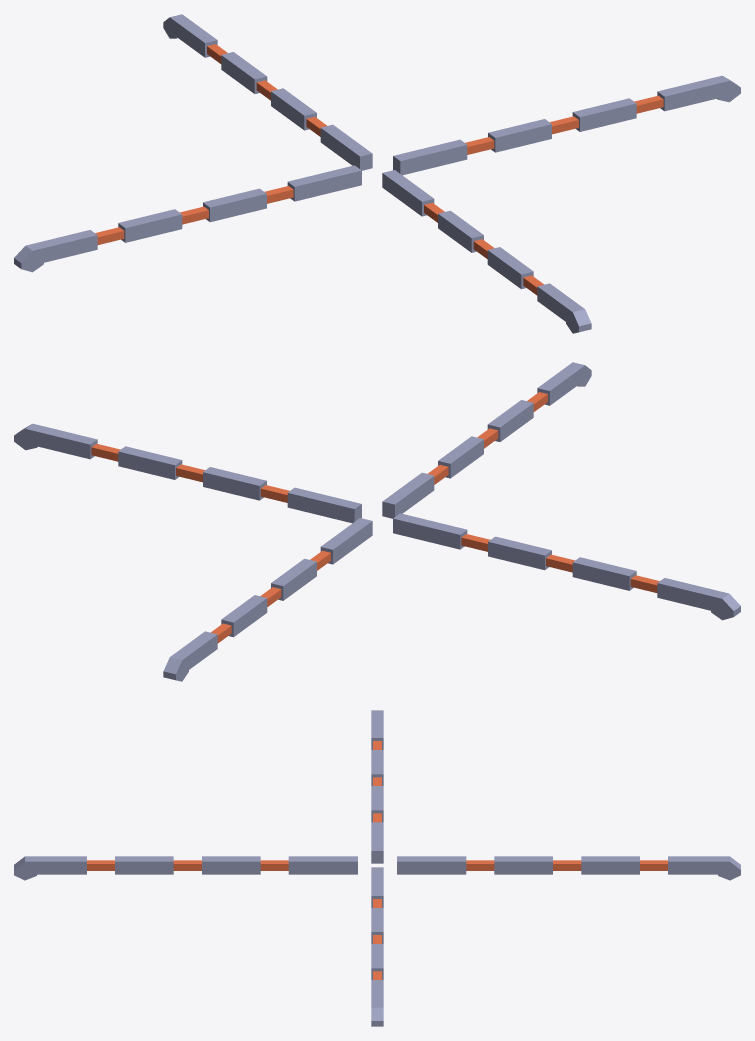
File: FactorySeperator.fbx
The picture shows the model from 3 angles, top to bottom: view 1: azimuth 30°, elevation 25°; view 2: azimuth 150°, elevation 25°; view 3: azimuth 270°, elevation 25°; orthographic projection. The views are drawn at different scales.
Parts seen in each view (by area): view 1: FactorySeperator_LOD0; view 2: FactorySeperator_LOD0; view 3: FactorySeperator_LOD0.
Boxes of the visible parts, bbox=[...] form: FactorySeperator_LOD0: bbox=[14, 14, 740, 333]; FactorySeperator_LOD0: bbox=[14, 362, 740, 681]; FactorySeperator_LOD0: bbox=[14, 710, 740, 1026].
Size of what is drawn, in the model's own units: 126000 by 3596 by 126000.
